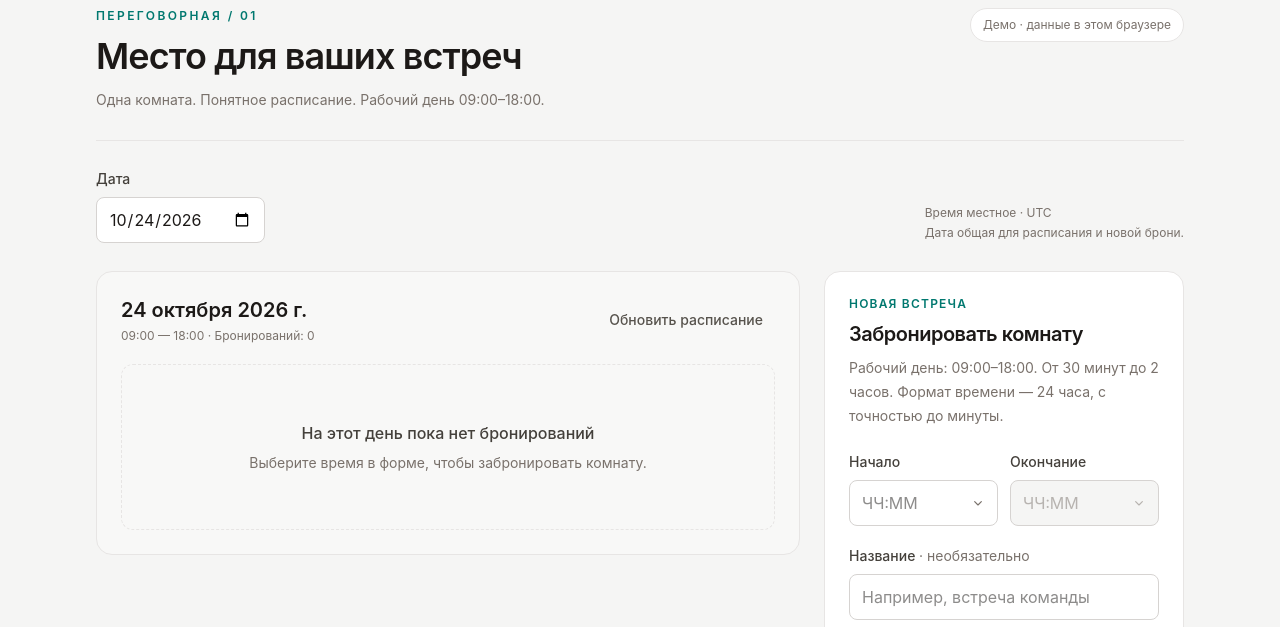
Scenario: booking UI through real HTTP handlers › handles a real stale-data 409 on create, keeps draft and retries
Expected: the text "На этот день пока нет бронирований" is shown, [302,423,594,443]
Type "10:00" into the dropdown labelled "Начало" at coordinates (924, 503), box [849,480,998,526]
Type "11:00" into the dropdown labelled "Окончание" at coordinates (1084, 503), box [1010,480,1159,526]
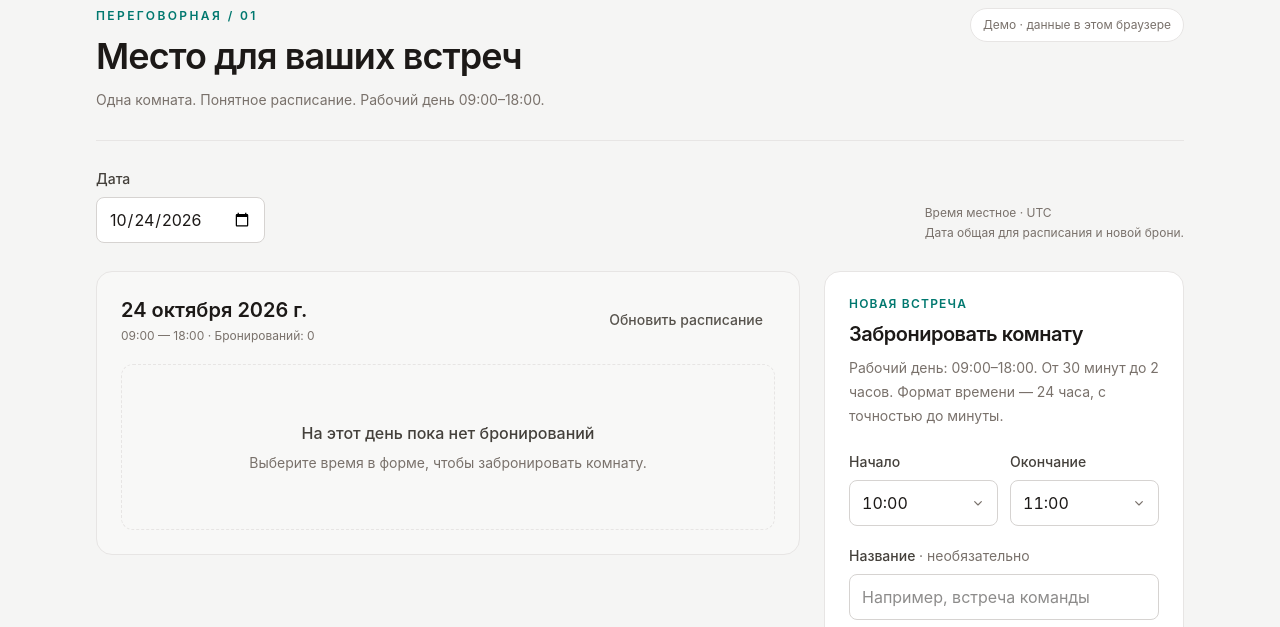
Type "  Черновик  " into the field labelled "Название · необязательно" at coordinates (1004, 597), box [849,574,1159,620]
(page scrolled)
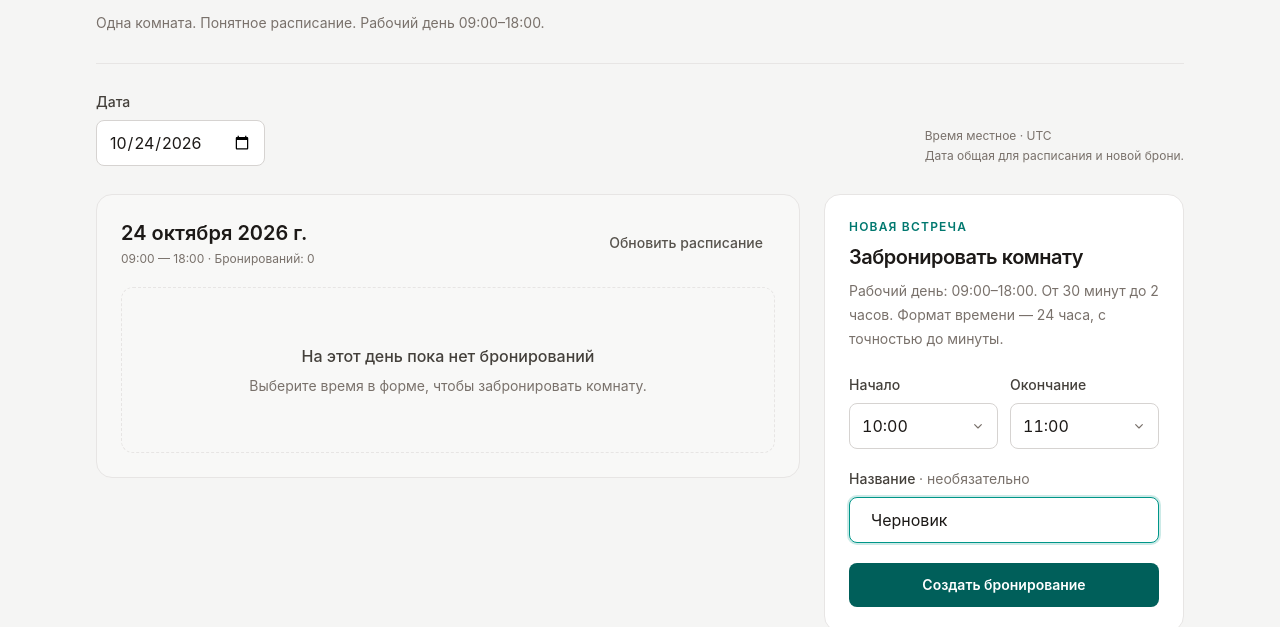
Click the button "Создать бронирование" at coordinates (1004, 585), box [849,563,1159,607]
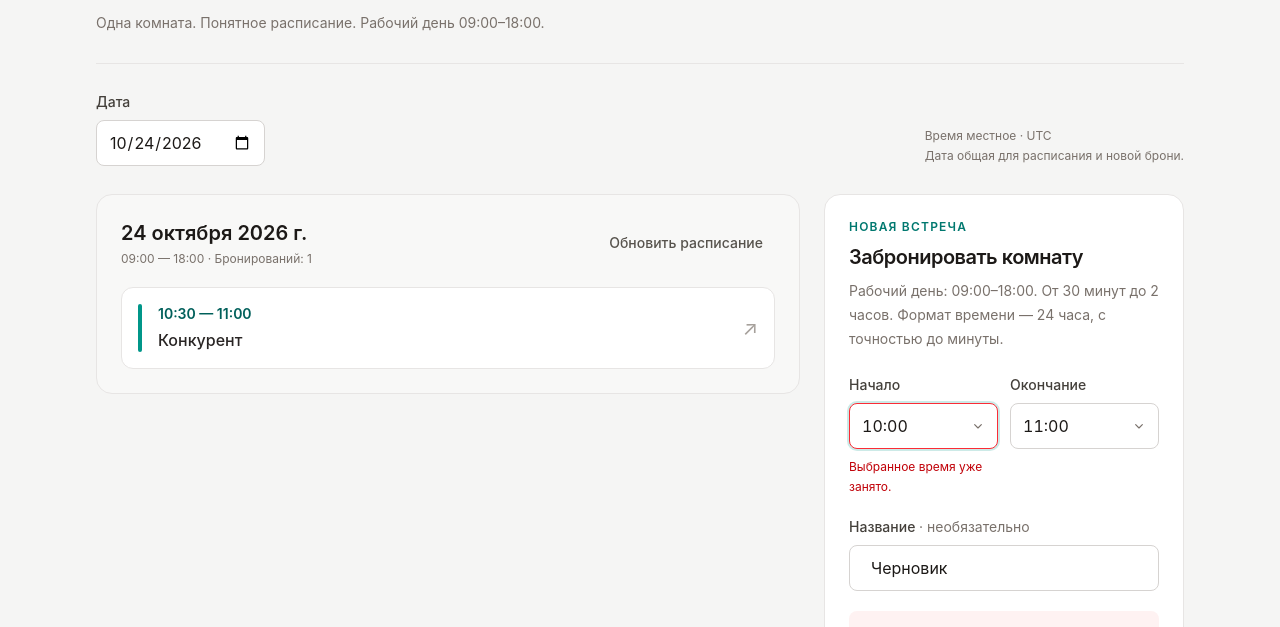
Expected: the date field labelled "Дата" holds "2026-10-24", [96,120,265,166]
Expected: the button with aria-label "Редактировать Конкурент" is shown, [121,287,775,369]
Replace the text in the dropdown labelled "Начало" with "11:00" at coordinates (924, 426), box [849,403,998,449]
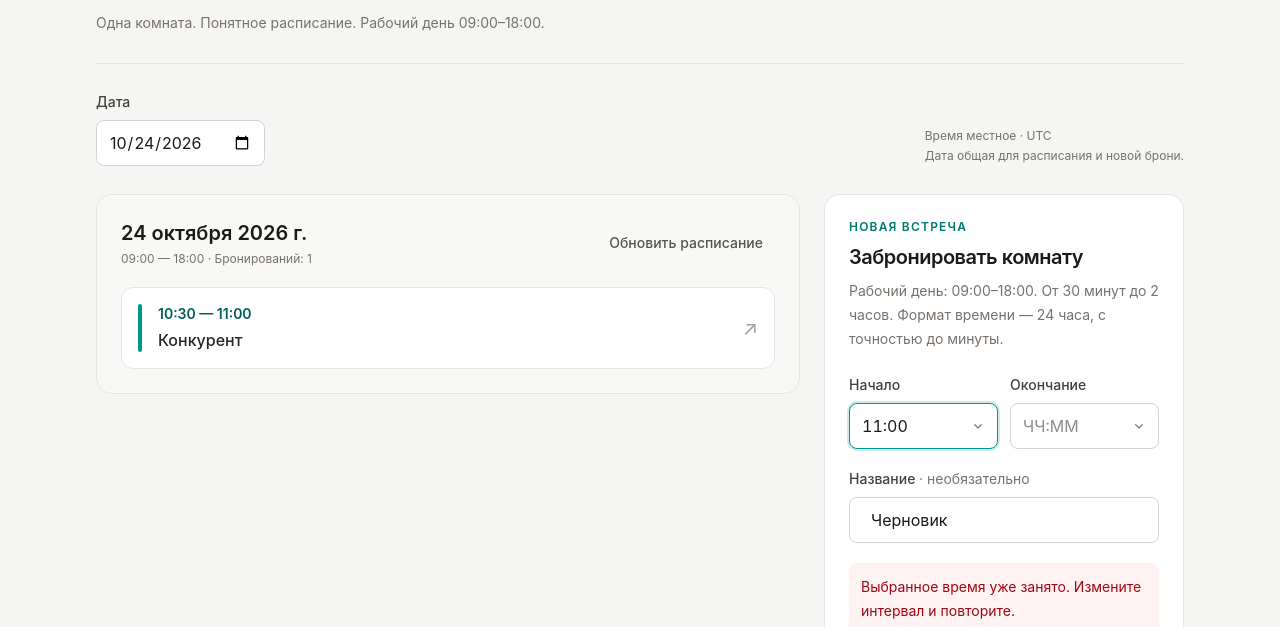
Type "12:00" into the dropdown labelled "Окончание" at coordinates (1084, 426), box [1010,403,1159,449]
(page scrolled)
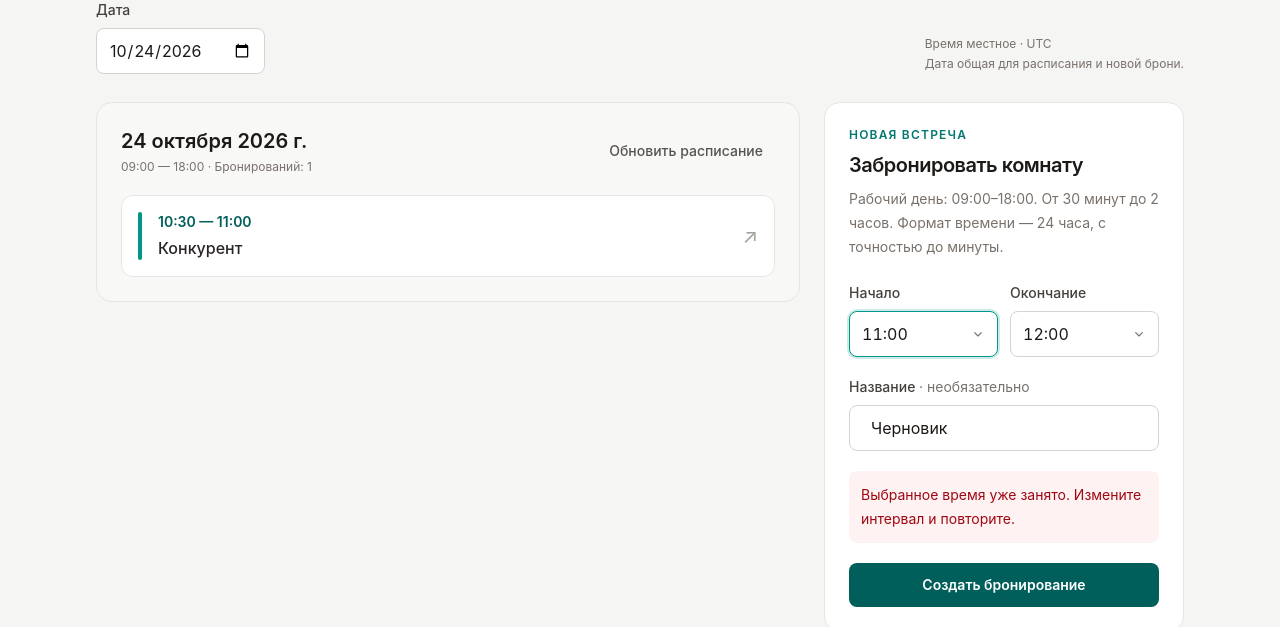
Click the button "Создать бронирование" at coordinates (1004, 585), box [849,563,1159,607]
(page scrolled)
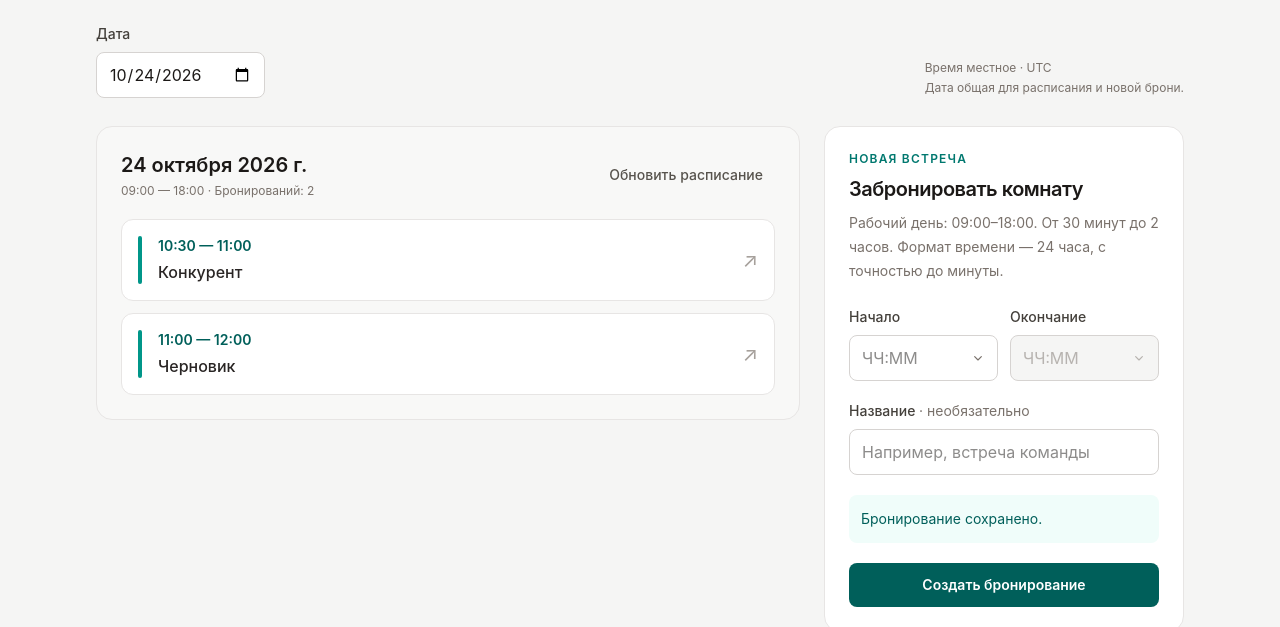
Expected: the button with aria-label "Редактировать Черновик" is shown, [121,313,775,395]
